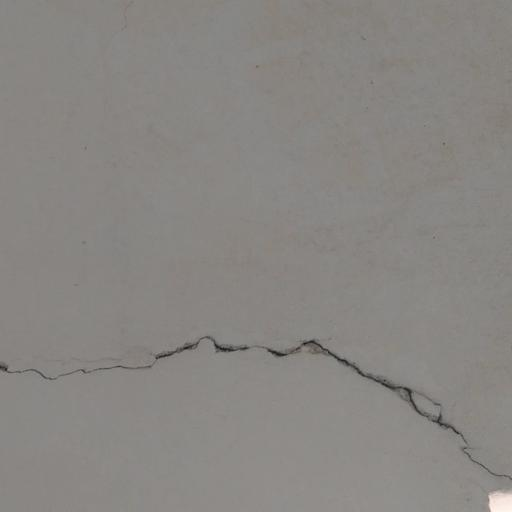major_crack: (0, 329, 512, 489)
